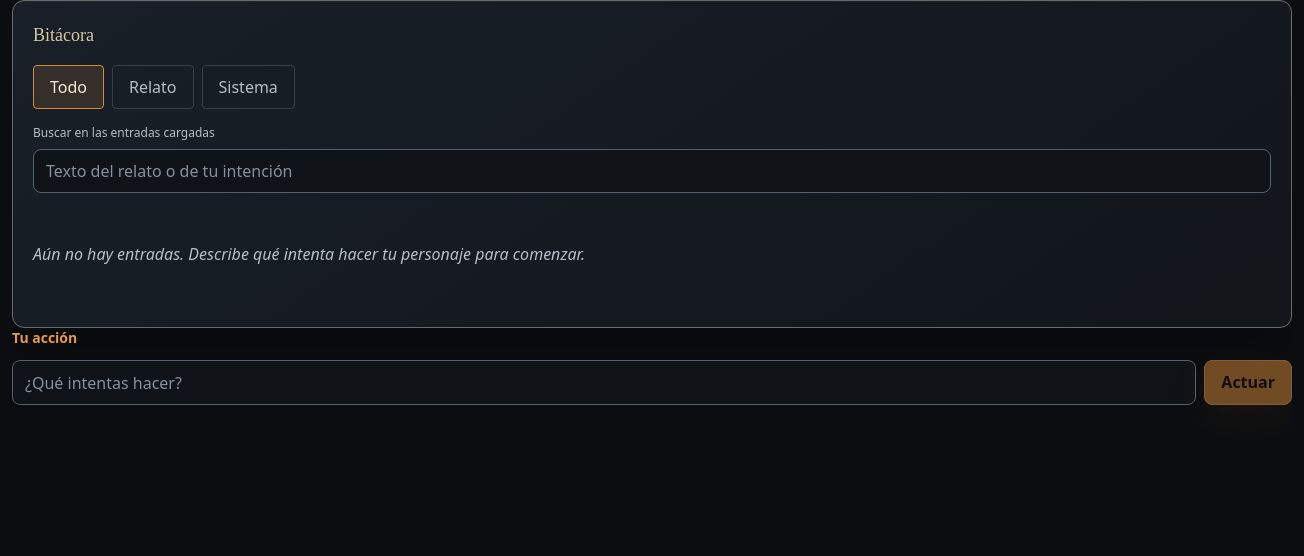
Test: campaign story through the real action stream › keeps a typed draft when equipment prepares an action and never submits preparation
Type "Examino el puente" into the field labelled "Tu acción". click: (604, 383)
box: [12,360,1196,405]
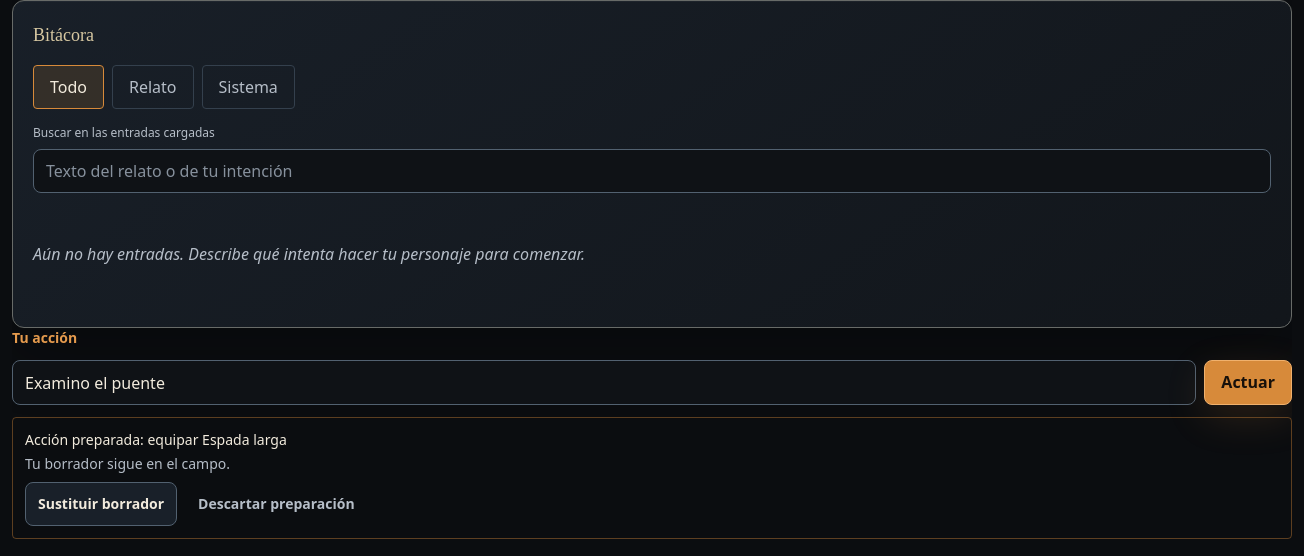
Click the button "Sustituir borrador". click: (101, 504)
box: [25,482,177,526]
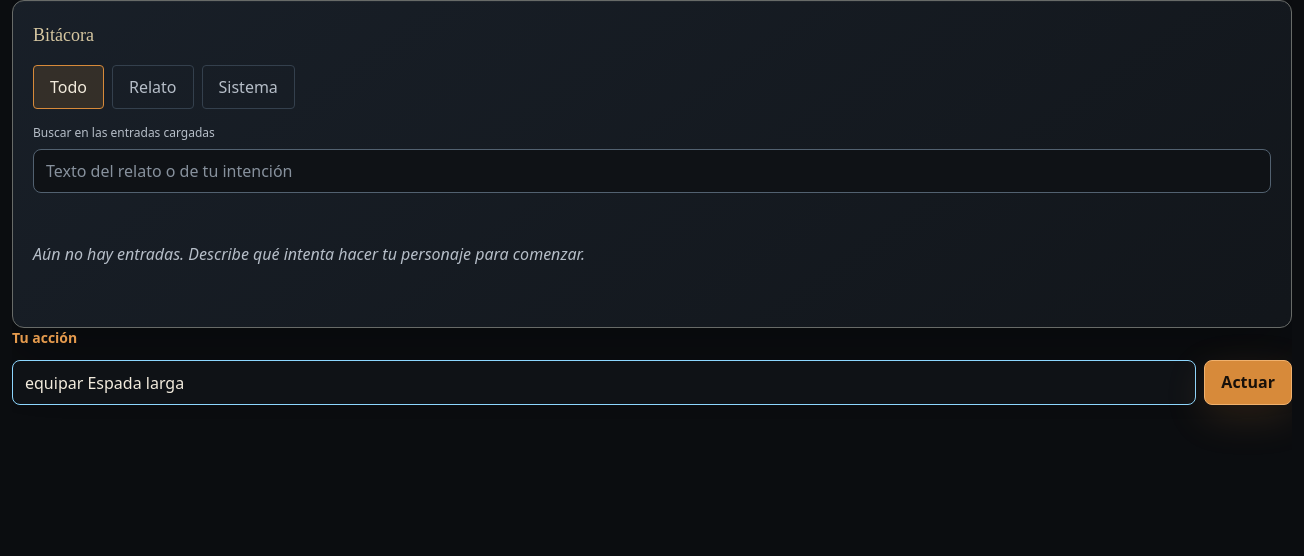
Expected: the field labelled "Tu acción" holds "equipar Espada larga", [12,360,1196,405]
